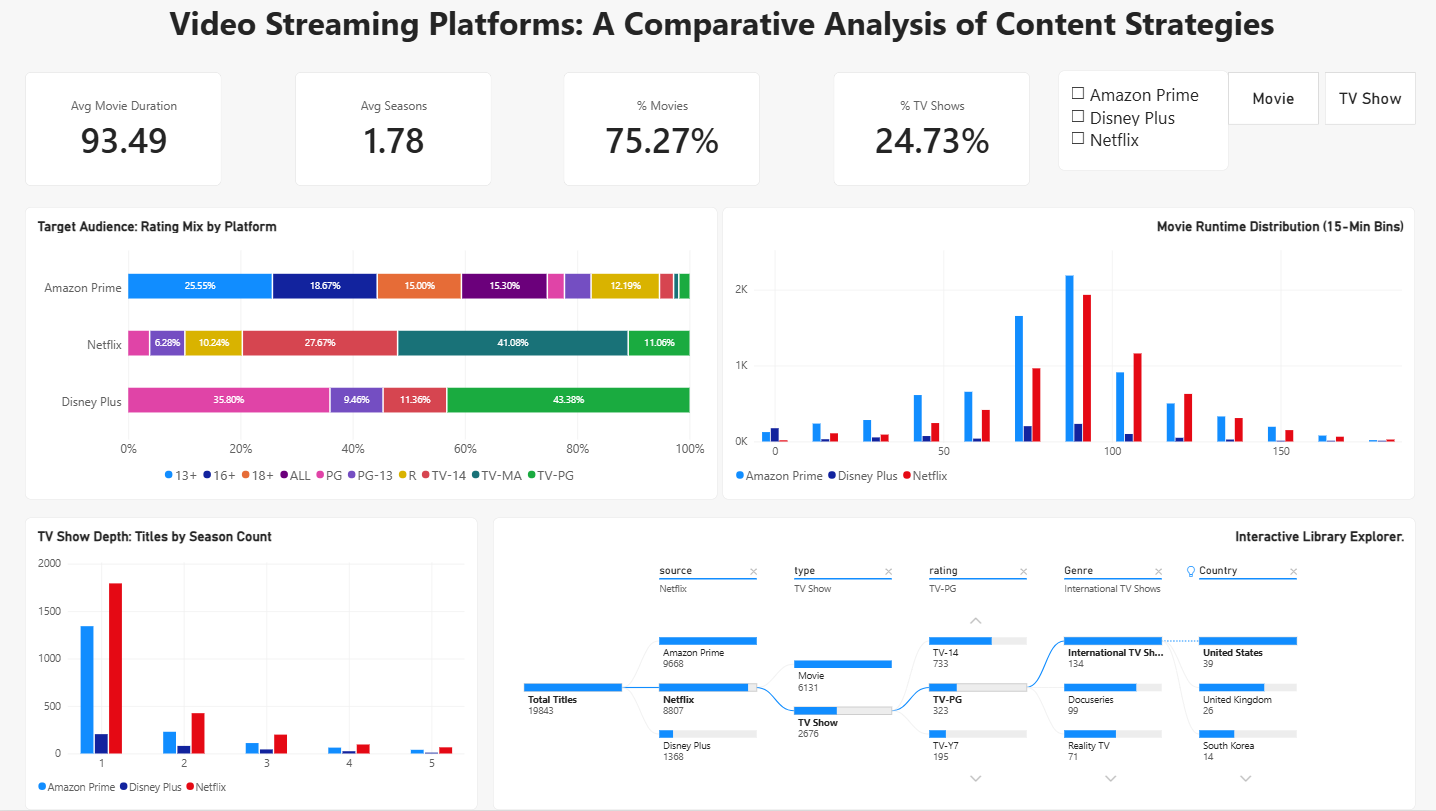

The page's visual inventory and layout, read from the dashboard file:
{"tool":"powerbi","page":{"name":"Content profile","canvas":[1920,1080],"ordinal":2},"visuals":[{"type":"listSlicer","fields":{"Values":["Data.source"]},"box":[1413.3,93.3,226.7,133.3],"z":0},{"type":"advancedSlicerVisual","fields":{"Values":["Data.type"]},"box":[1640,95,250,70],"z":1000},{"type":"textbox","box":[10,0,1910,63.3],"z":2000},{"type":"cardVisual","fields":{"Data":["Data.Avg Movie Duration"]},"box":[36.7,95.4,262.5,152.3],"z":3000},{"type":"cardVisual","fields":{"Data":["Data.Avg Seasons"]},"box":[395.5,95.4,262.5,152.3],"z":4000},{"type":"cardVisual","fields":{"Data":["Data.% Movies"]},"box":[754.3,95.4,262.5,152.3],"z":5000},{"type":"cardVisual","fields":{"Data":["Data.% TV Shows"]},"box":[1113.2,95.4,262.5,152.3],"z":6000},{"type":"clusteredColumnChart","title":"Movie Runtime Distribution (15-Min Bins)","fields":{"Category":["Data.duration_in_min (bins)"],"Series":["Data.source"],"Y":["Data.Movies"]},"box":[966.7,276.7,923.3,390],"z":8000},{"type":"decompositionTreeVisual","title":"Interactive Library Explorer.","fields":{"Analyze":["Data.Total Titles"],"ExplainBy":["Data.source","Data.type","Data.rating","Genre-Map.Genre","Country-Map.Country"]},"box":[660,690,1230,390],"z":8001},{"type":"clusteredColumnChart","title":"TV Show Depth: Titles by Season Count","fields":{"Category":["Data.tv_shows_season"],"Series":["Data.source"],"Y":["Data.TV Shows"]},"box":[36.7,690,603.3,390],"z":8002},{"type":"hundredPercentStackedBarChart","title":"Target Audience: Rating Mix by Platform","fields":{"Category":["Data.source"],"Series":["Data.rating"],"Y":["Data.Total Titles"]},"box":[36.7,276.7,923.3,390],"z":8003}]}

Visuals, with their boxes in screenshot pixels (x1, y1, x2, y2), scaled from the page's 1920x1080 canvas onto the 1436x811 screenshot:
listSlicer - Data.source: (1057, 70, 1227, 170)
advancedSlicerVisual - Data.type: (1227, 71, 1414, 124)
textbox: (7, 0, 1435, 48)
cardVisual - Data.Avg Movie Duration: (27, 72, 224, 186)
cardVisual - Data.Avg Seasons: (296, 72, 492, 186)
cardVisual - Data.% Movies: (564, 72, 760, 186)
cardVisual - Data.% TV Shows: (833, 72, 1029, 186)
"Movie Runtime Distribution (15-Min Bins)" clusteredColumnChart: (723, 208, 1414, 501)
"Interactive Library Explorer." decompositionTreeVisual: (494, 518, 1414, 810)
"TV Show Depth: Titles by Season Count" clusteredColumnChart: (27, 518, 479, 810)
"Target Audience: Rating Mix by Platform" hundredPercentStackedBarChart: (27, 208, 718, 501)
